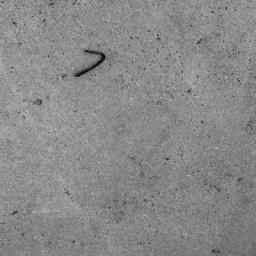FOD: (74, 48, 109, 82)
